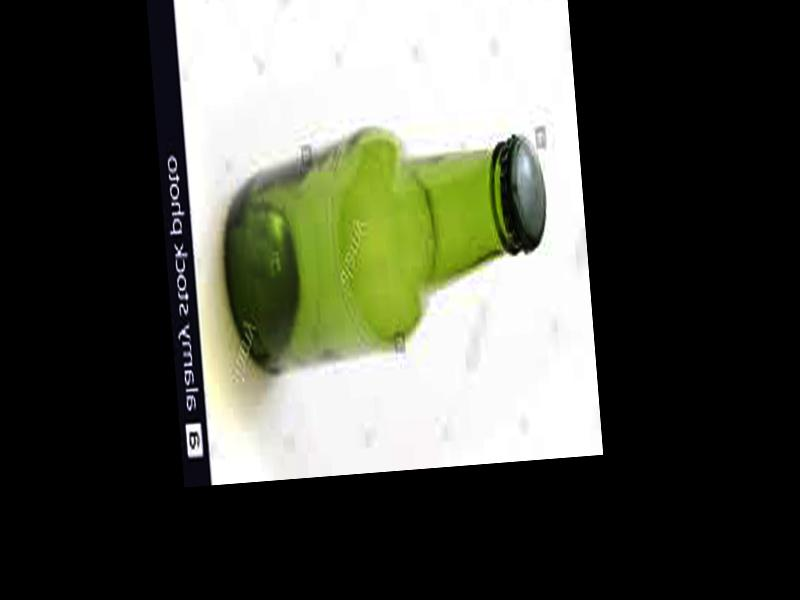Beer: (217, 132, 557, 375)
